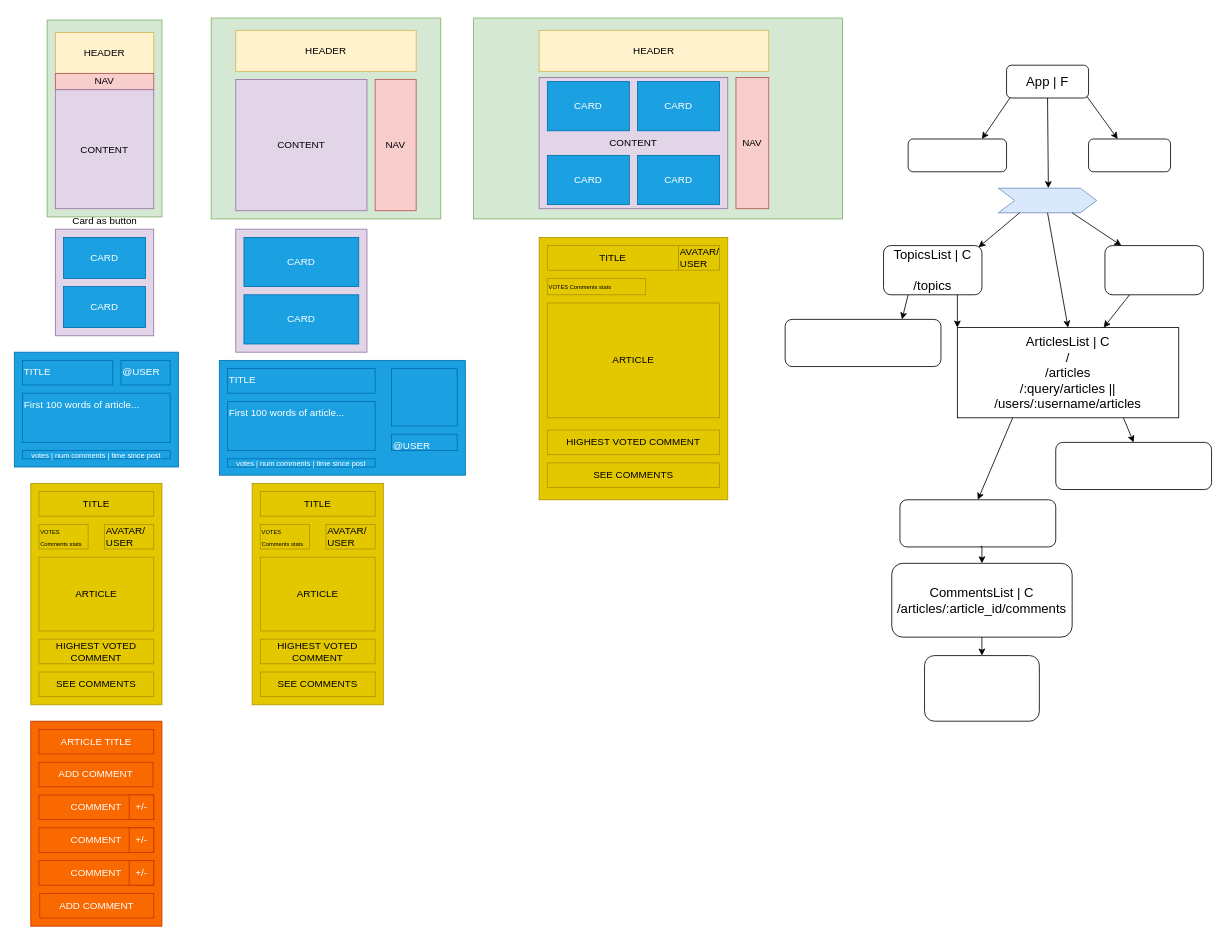
This 1226x941 diagram has some shape labels left out. The centre of each missing label's shape, as x and y in pixels:
"Article | C /articles/:article_id" belongs at pixel 977 523.
"ArticleCard | F" belongs at pixel 1133 466.
"AVATAR" belongs at pixel 424 397.
"Comment | F" belongs at pixel 981 688.
"HEADER | F" belongs at pixel 957 155.
"NAV | C" belongs at pixel 1129 155.
"ROUTER" belongs at pixel 1047 200.
"TopicCard | F" belongs at pixel 862 343.
"UsersList | C /users" belongs at pixel 1153 270.
